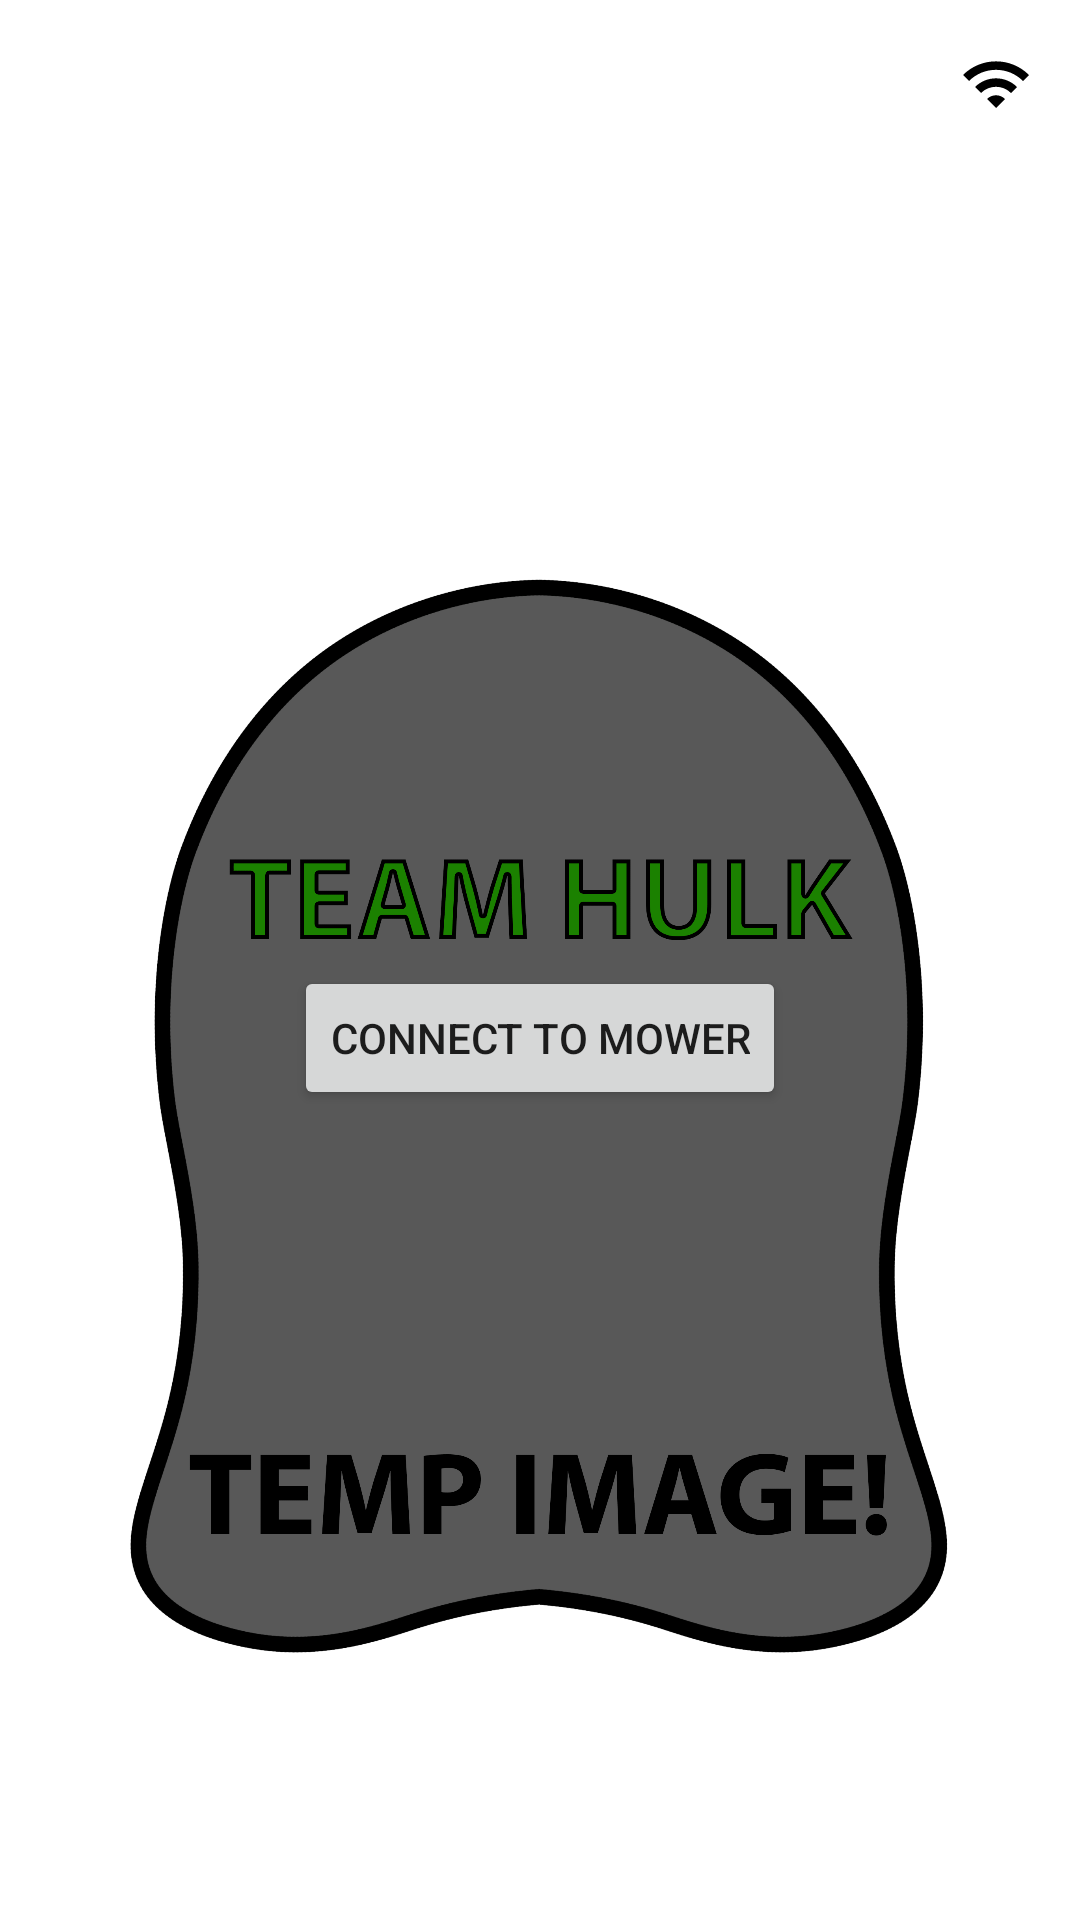

Icon click points for this 1080px x 1920px phone screenshot, format point (x, y):
wifi: point (996, 84)
